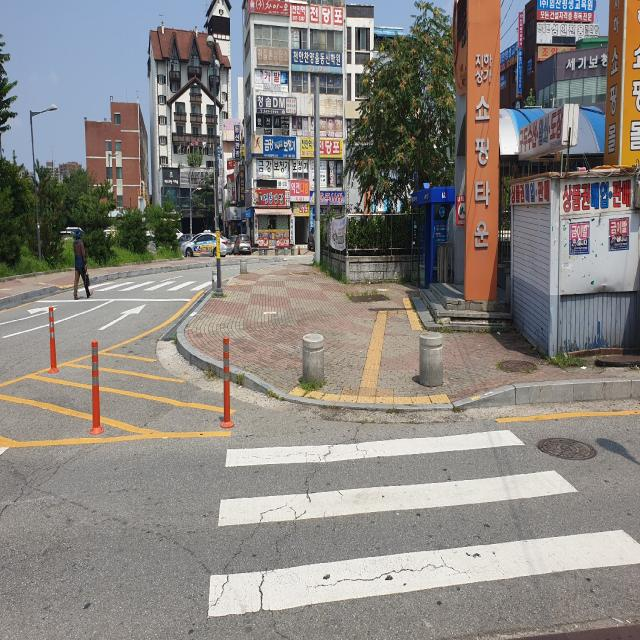횡단보도: (205, 426, 640, 622), (104, 276, 202, 299)
